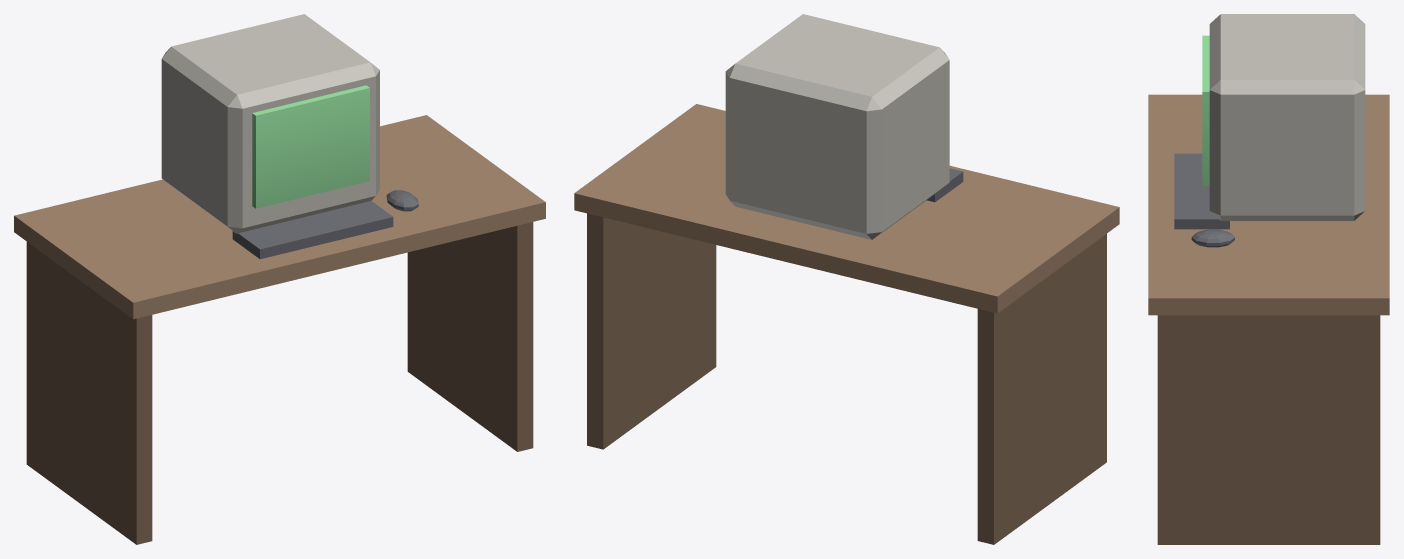
The model's file is CRTDesk.fbx.
The picture shows the model from 3 angles, left to right: view 1: azimuth 30°, elevation 25°; view 2: azimuth 150°, elevation 25°; view 3: azimuth 270°, elevation 25°; orthographic projection. The views are drawn at different scales.
Visible parts, largest first — view 1: Prop_CRTDesk; view 2: Prop_CRTDesk; view 3: Prop_CRTDesk.
Boxes of the visible parts, x1=… form: Prop_CRTDesk: x1=14, y1=14, x2=545, y2=544; Prop_CRTDesk: x1=574, y1=14, x2=1119, y2=544; Prop_CRTDesk: x1=1148, y1=14, x2=1389, y2=544.
Size of the model in its own units: 1.3 by 1.19 by 0.65.
